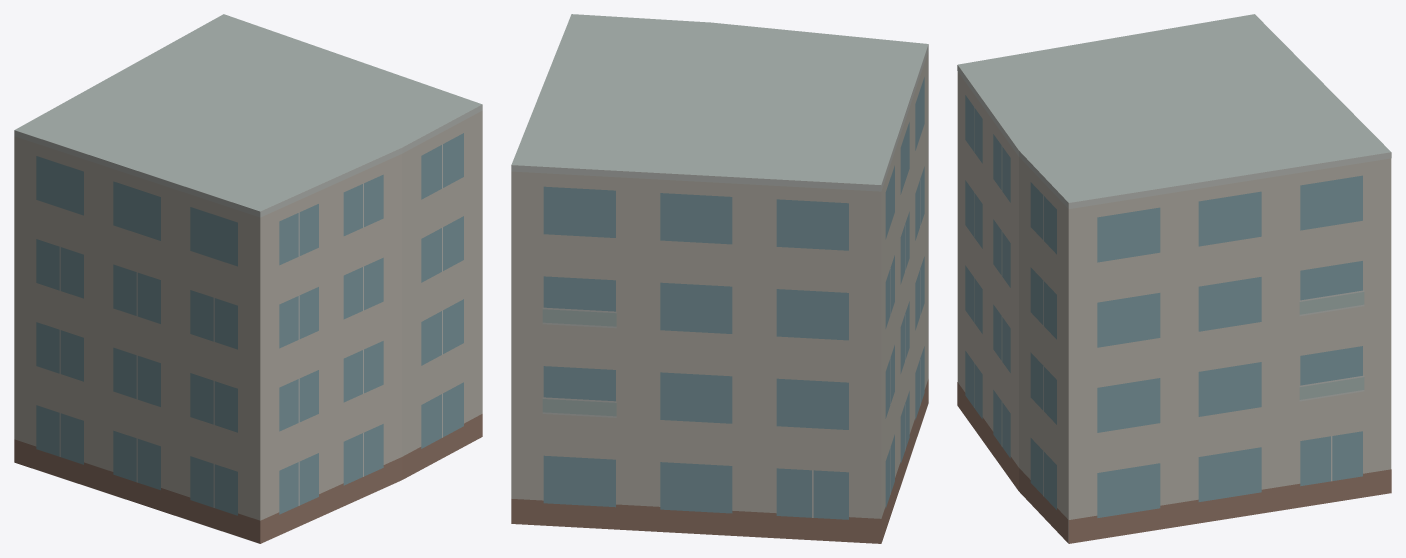
Rendered from survey-upis-32938812.glb.
3 views of the same model, side by side, from view 1: azimuth 30°, elevation 25°; view 2: azimuth 150°, elevation 25°; view 3: azimuth 270°, elevation 25° (orthographic). The views are drawn at different scales.
Visible parts, largest first — view 1: survey-upis-32938812.tmp; view 2: survey-upis-32938812.tmp; view 3: survey-upis-32938812.tmp.
Part boxes in pixels (box(x1,y1,x2,y2)): survey-upis-32938812.tmp: box(14, 14, 482, 543); survey-upis-32938812.tmp: box(511, 14, 928, 543); survey-upis-32938812.tmp: box(957, 14, 1391, 543).
Bounding box in the file's own units: 16.06 × 13.5 × 15.59.
